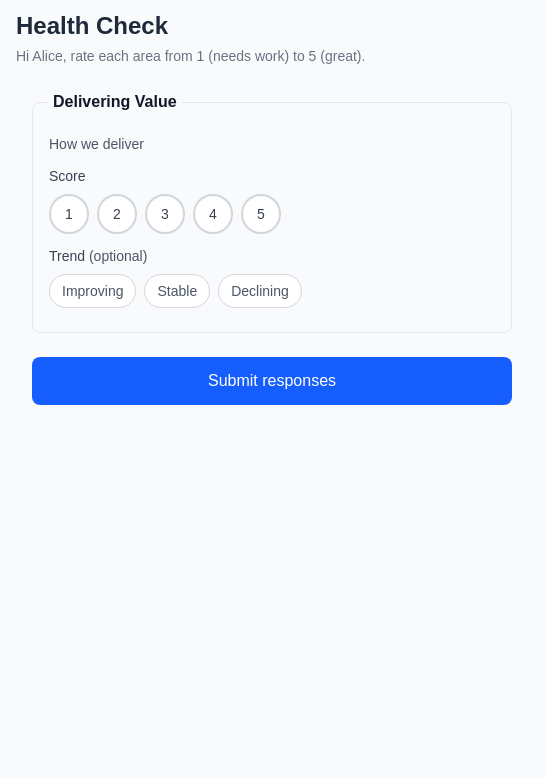
the confirmation carries the time it was saved › says when, not only what
What coordinates should you click on to do the following:
click the radio button labelled "4"
I would click on:
 (213, 214)
Its box is [193,194,233,234].
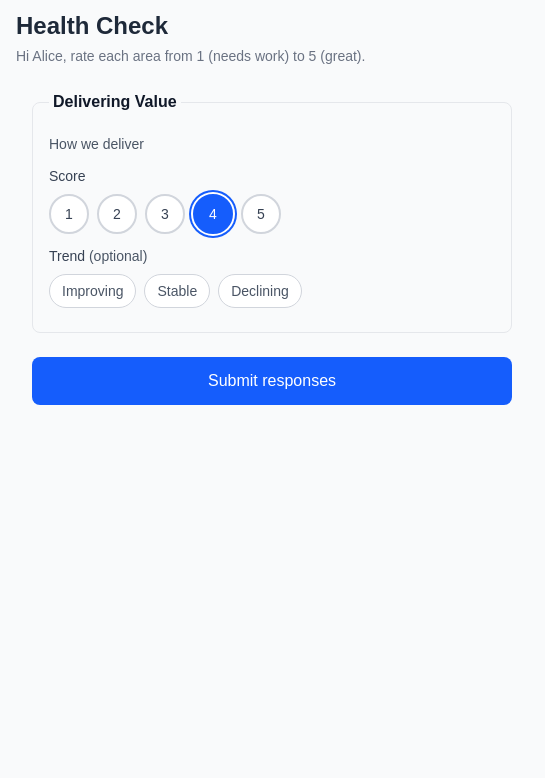
What coordinates should you click on to do the following:
click the button "Submit responses"
I would click on:
 (272, 381)
Its box is [32,357,512,405].
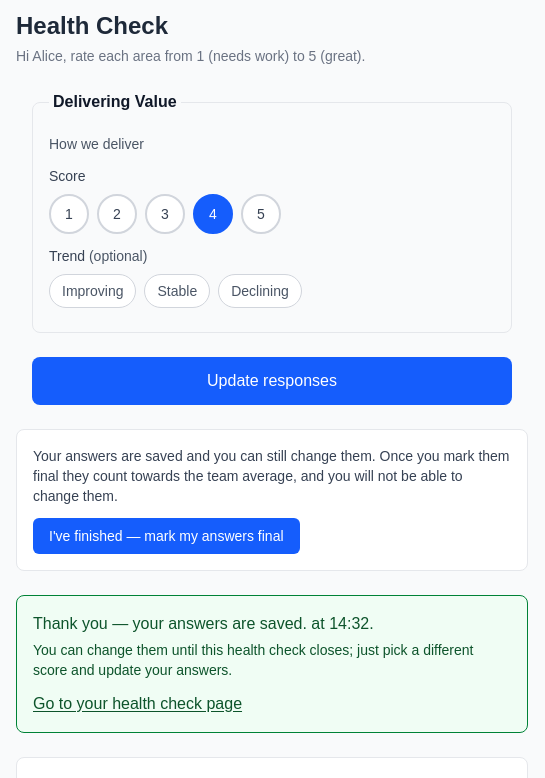
Expected: the message is shown, [16,595,528,733]
Expected: the message shows "14:32", [329,615,369,632]
